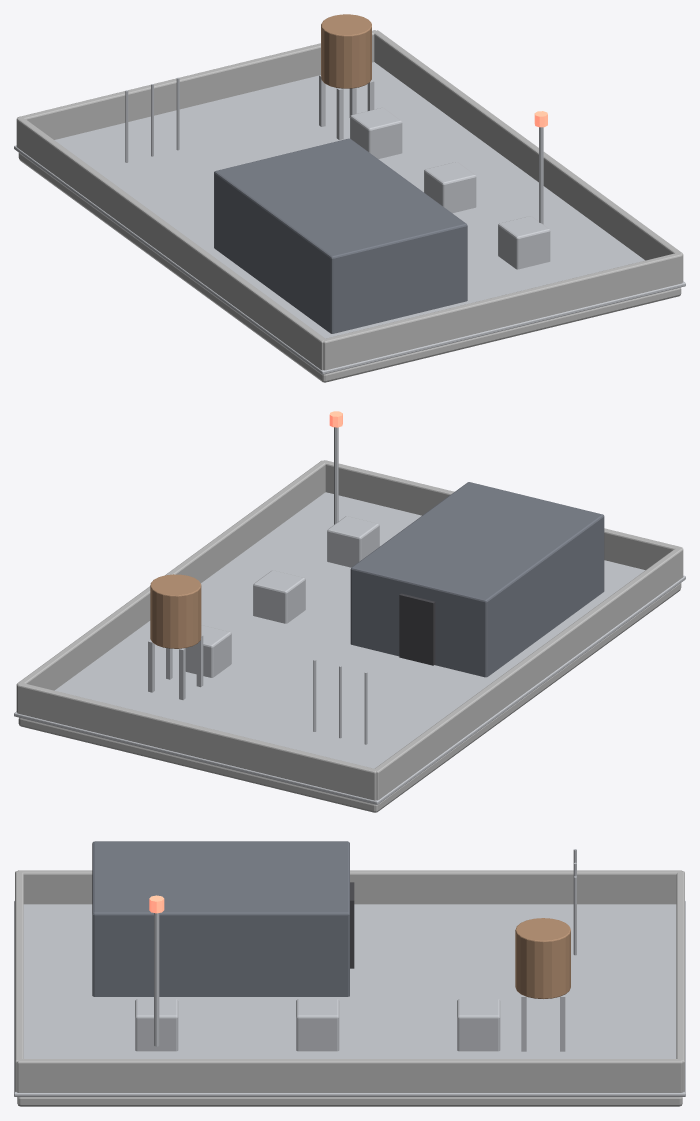
Rendered from roof_4x6_mech_office.glb.
The picture shows the model from 3 angles, top to bottom: view 1: azimuth 30°, elevation 25°; view 2: azimuth 150°, elevation 25°; view 3: azimuth 270°, elevation 25°; orthographic projection. The views are drawn at different scales.
Visible parts, largest first — view 1: int_slab_edge, ext_parapet, ext_penthouse, ext_ac, int_slab, ext_tank, ext_tank_legs; view 2: int_slab_edge, ext_parapet, ext_penthouse, ext_ac, int_slab, ext_tank, ext_penthouse_door, ext_tank_legs; view 3: int_slab_edge, ext_parapet, ext_penthouse, ext_ac, int_slab, ext_tank, ext_mast, ext_tank_legs, ext_penthouse_door.
Part boxes in pixels (x1,y1,x2,y2): int_slab_edge: [14, 62, 685, 374]; ext_parapet: [16, 30, 683, 370]; ext_penthouse: [214, 138, 467, 333]; ext_ac: [350, 107, 550, 269]; int_slab: [18, 153, 681, 382]; ext_tank: [321, 14, 371, 88]; ext_tank_legs: [319, 75, 374, 139]; int_slab_edge: [14, 492, 685, 804]; ext_parapet: [16, 460, 683, 800]; ext_penthouse: [350, 482, 604, 677]; ext_ac: [185, 516, 379, 677]; int_slab: [18, 583, 681, 812]; ext_tank: [150, 574, 201, 648]; ext_penthouse_door: [399, 593, 435, 665]; ext_tank_legs: [148, 635, 203, 699]; int_slab_edge: [14, 901, 685, 1096]; ext_parapet: [15, 870, 684, 1092]; ext_penthouse: [92, 841, 349, 996]; ext_ac: [135, 999, 500, 1051]; int_slab: [17, 1097, 682, 1106]; ext_tank: [515, 918, 570, 998]; ext_mast: [154, 913, 159, 1046]; ext_tank_legs: [521, 994, 565, 1051]; ext_penthouse_door: [350, 882, 354, 968].
Bounding box in the file's own units: 4.26 × 1.73 × 6.26.
